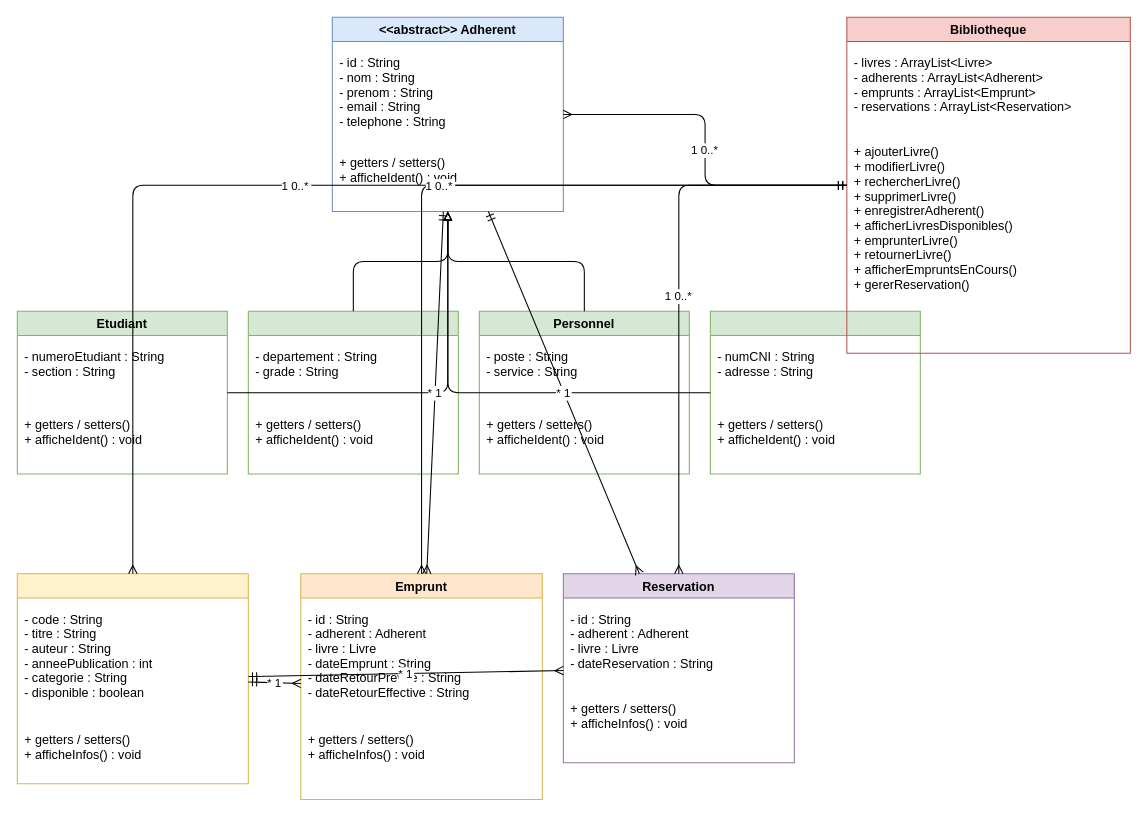
Image size: 1148x817. Some labels were removed from this diagram. Each missing label, with the box of its shape:
Livre: (16, 573, 248, 784)
Professeur: (247, 310, 458, 474)
Public: (709, 310, 920, 474)
